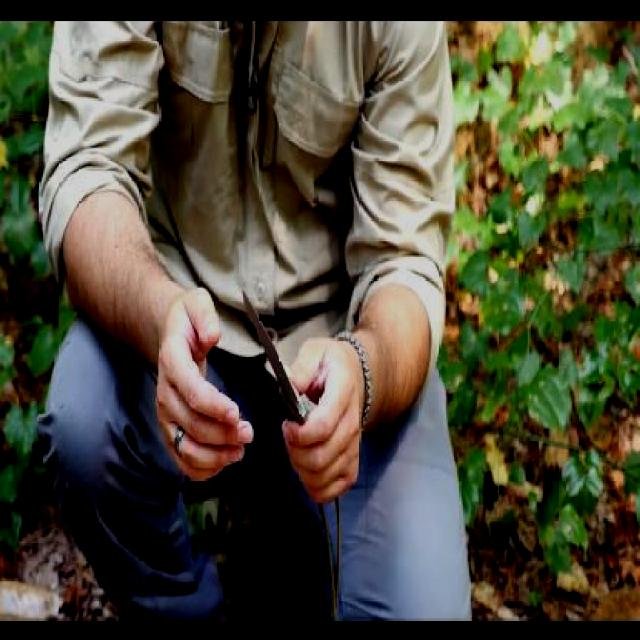knife: (238, 285, 358, 489)
